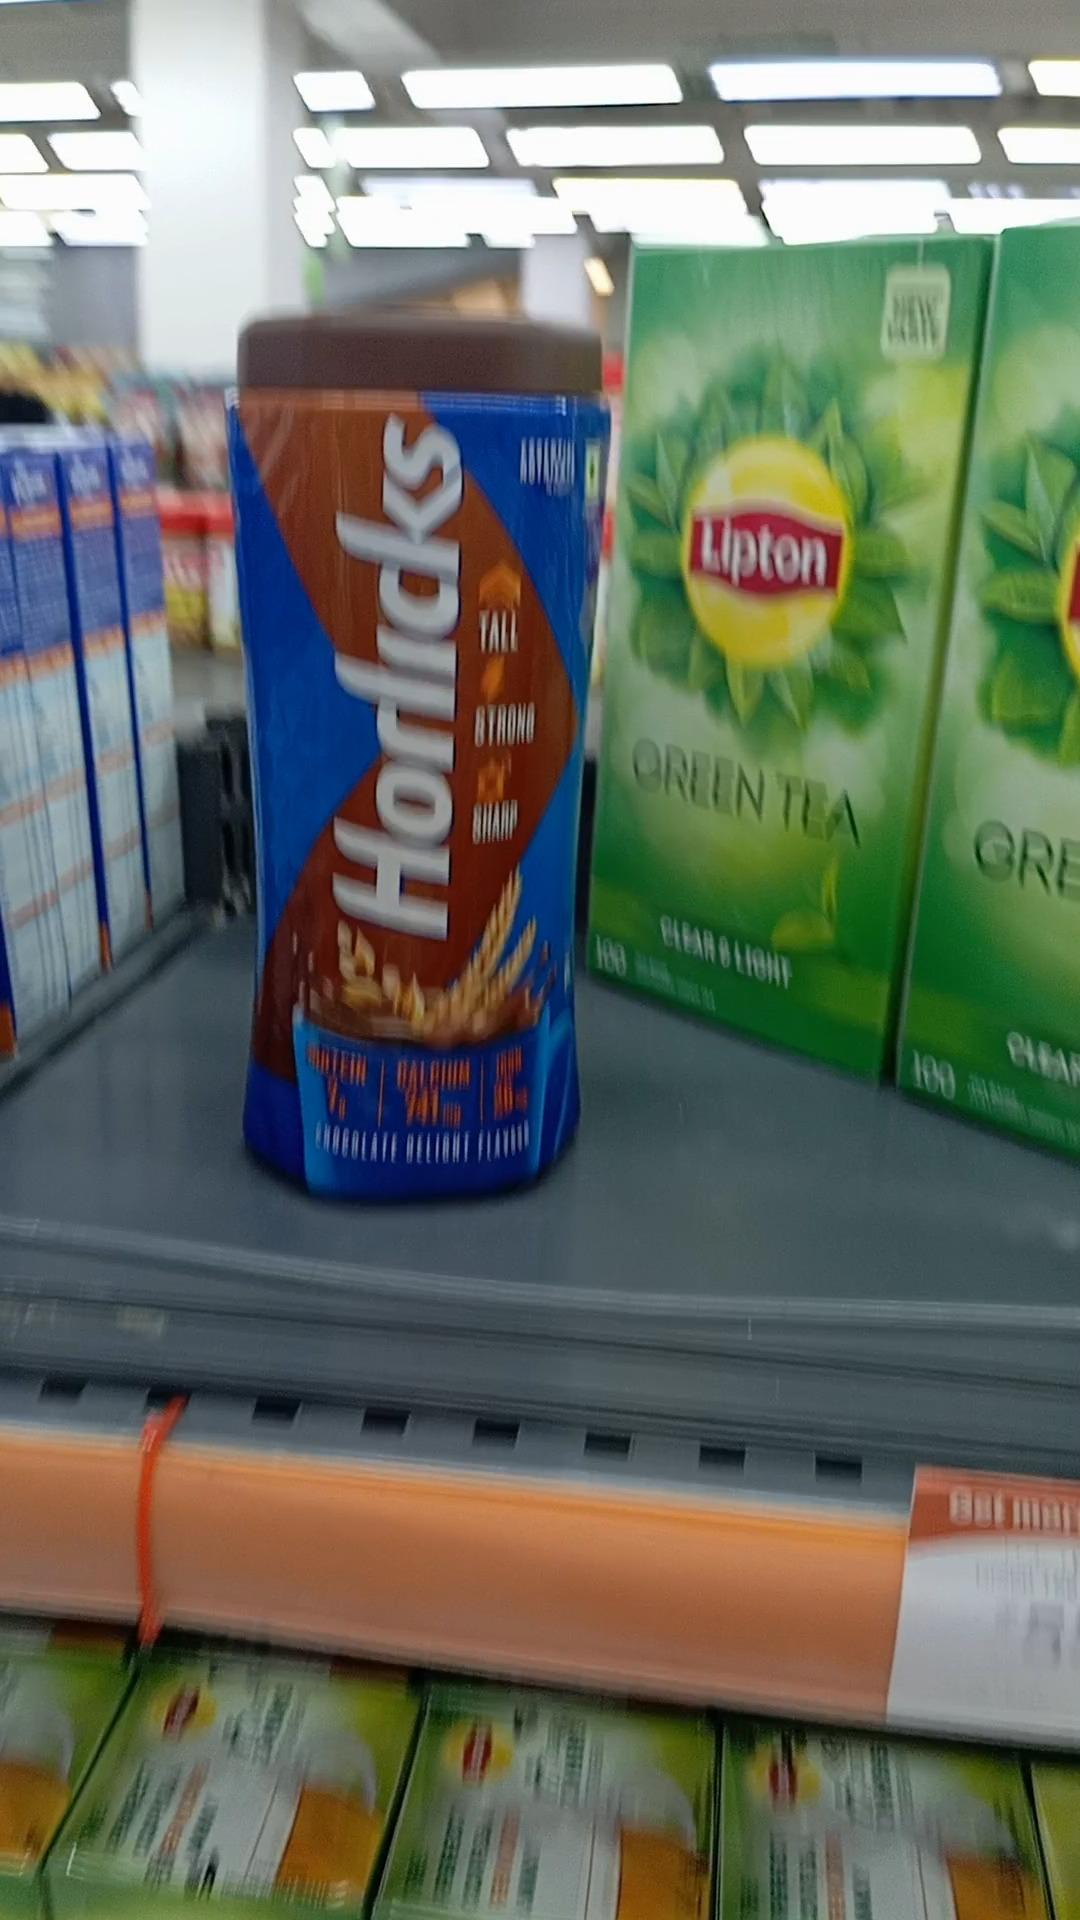HORLICK_CHOCOLATE_1_KG_JAR: (232, 314, 582, 1199)
